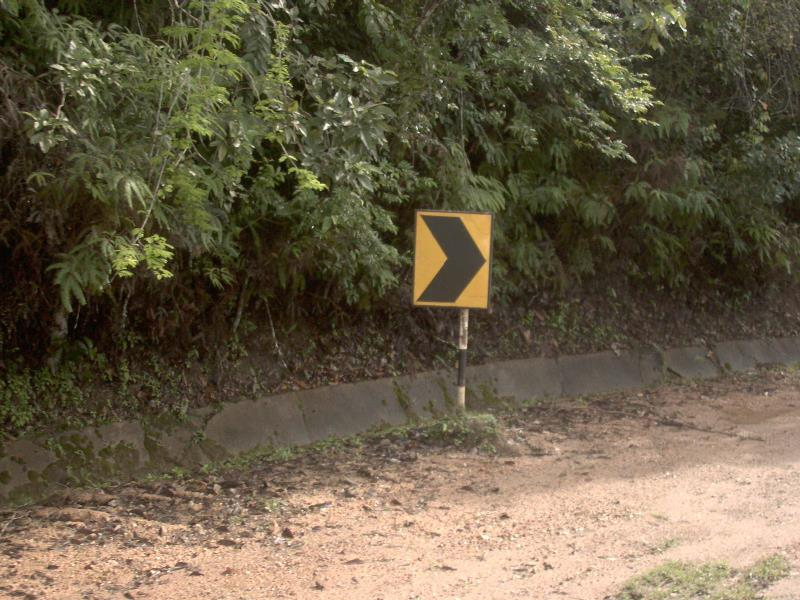traffic_sign: (400, 190, 505, 322)
